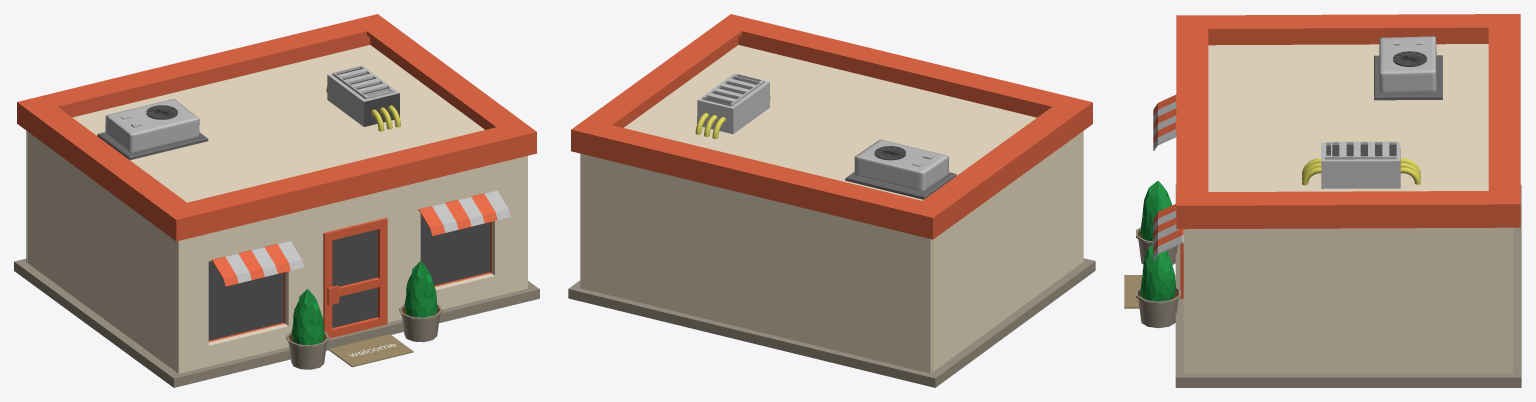
The model's file is shop.glb.
The picture shows the model from 3 angles, left to right: view 1: azimuth 30°, elevation 25°; view 2: azimuth 150°, elevation 25°; view 3: azimuth 270°, elevation 25°; orthographic projection. The views are drawn at different scales.
Parts seen in each view (by area): view 1: Box001, Box002, Box004, Box013, Box009, Box008, Box010, GeoSphere001, GeoSphere002, Cylinder002, Cylinder003, Box003; view 2: Box001, Box002, Box004, Box013, Box003; view 3: Box001, Box002, Box013, Box004, GeoSphere001, Box008, Cylinder002, Box003, Box009, GeoSphere002, Box010, Cylinder001 (+1 smaller).
Part boxes in pixels (x1,y1,x2,y2): Box001: (17,14,536,373); Box002: (14,258,539,387); Box004: (105,99,199,152); Box013: (327,66,399,126); Box009: (211,240,303,286); Box008: (418,190,510,235); Box010: (328,334,413,367); GeoSphere001: (404,261,437,317); GeoSphere002: (291,289,324,345); Cylinder002: (399,303,442,342); Cylinder003: (286,331,329,369); Box003: (97,132,208,160); Box001: (571,14,1092,373); Box002: (568,258,1095,387); Box004: (854,139,948,191); Box013: (697,73,769,134); Box003: (845,172,956,199); Box001: (1176,14,1520,373); Box002: (1175,184,1521,387); Box013: (1321,141,1400,188); Box004: (1379,36,1436,92); GeoSphere001: (1140,244,1175,301); Box008: (1153,204,1183,259); Cylinder002: (1136,287,1180,328); Box003: (1374,55,1442,100); Box009: (1153,95,1176,150); GeoSphere002: (1140,181,1171,241); Box010: (1124,275,1175,308); Cylinder001: (1393,51,1426,66).
Size of the model in its own units: 114 by 52.56 by 98.99.
